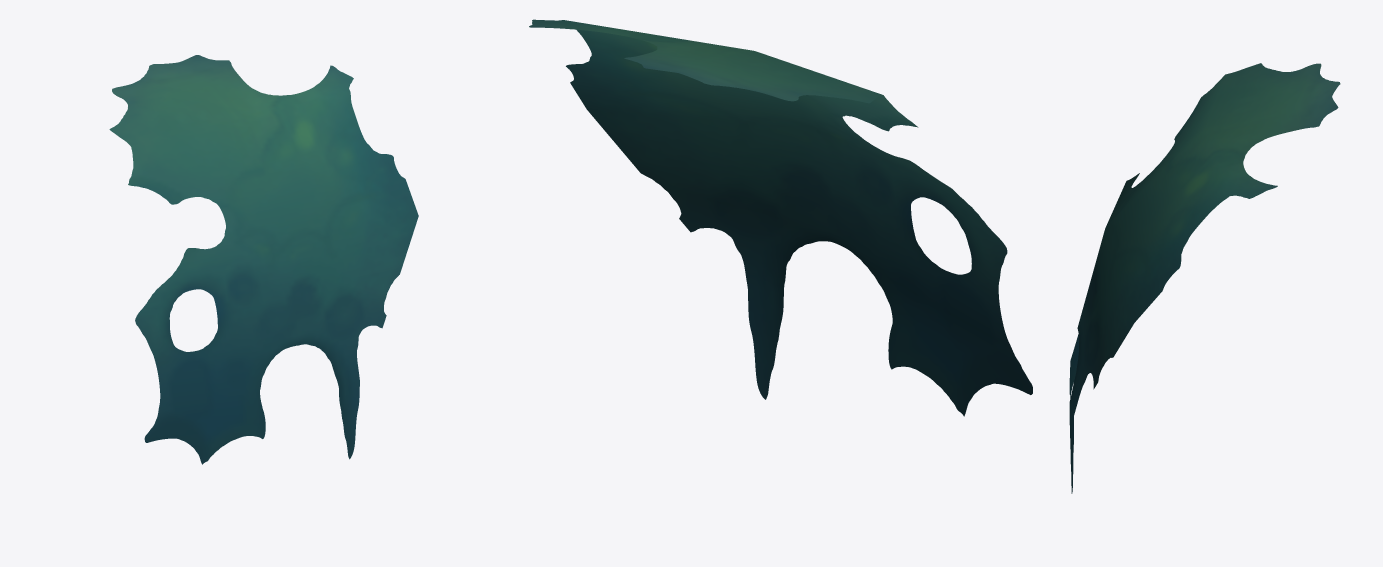
The model's file is h5_caopian_b.FBX.
The picture shows the model from 3 angles, left to right: view 1: azimuth 30°, elevation 25°; view 2: azimuth 150°, elevation 25°; view 3: azimuth 270°, elevation 25°; orthographic projection. The views are drawn at different scales.
Visible parts, largest first — view 1: h5_caopian_b; view 2: h5_caopian_b; view 3: h5_caopian_b.
Part boxes in pixels (bbox=[...]): h5_caopian_b: bbox=[109, 55, 418, 464]; h5_caopian_b: bbox=[529, 19, 1032, 416]; h5_caopian_b: bbox=[1069, 63, 1340, 493].
Bounding box in the file's own units: 0.5592 × 0.6749 × 0.4383.
1 material, 1 textured.
